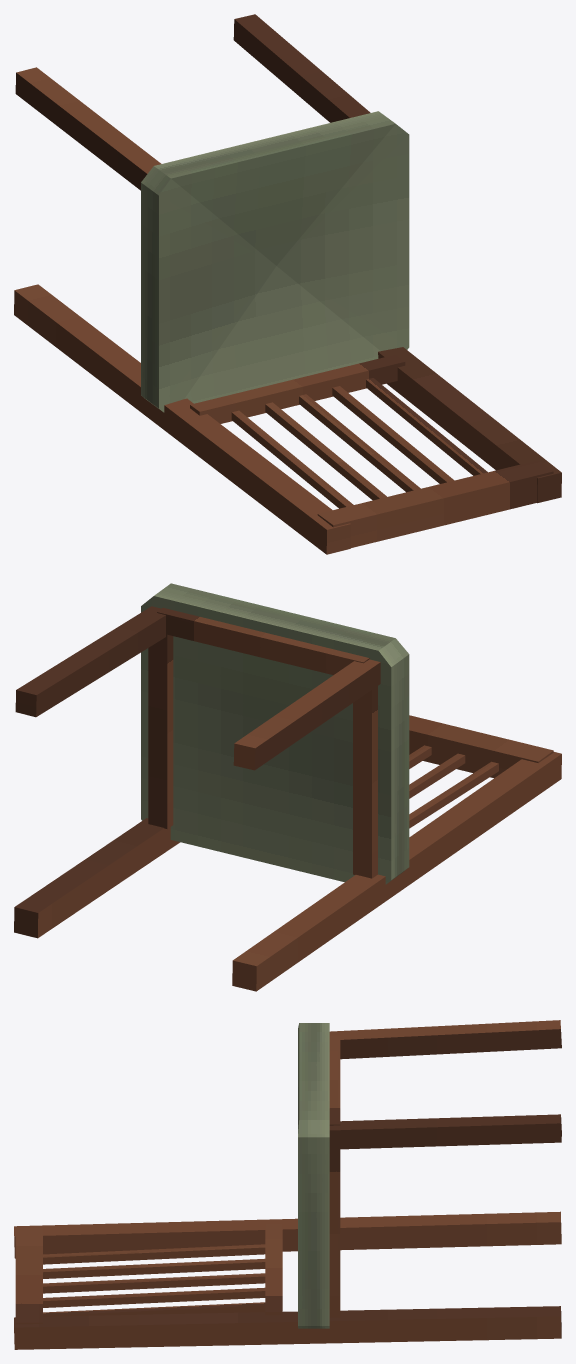
File: pz_chair_seating_indoor_01_green_dinner_fidelity_r1.obj
3 views of the same model, one above another, from view 1: azimuth 30°, elevation 25°; view 2: azimuth 150°, elevation 25°; view 3: azimuth 270°, elevation 25° (orthographic). The views are drawn at different scales.
Visible parts, largest first — view 1: seat, wood; view 2: wood, seat; view 3: wood, seat.
Boxes of the visible parts, <box> form: seat: <box>141,111,409,412</box>; wood: <box>14,14,561,554</box>; wood: <box>14,606,561,991</box>; seat: <box>141,583,409,884</box>; wood: <box>14,1020,561,1349</box>; seat: <box>298,1023,329,1328</box>.
Bounding box in the file's own units: 0.4904 × 0.4816 × 1.05.
Materials: 1 (1 with a texture image).
